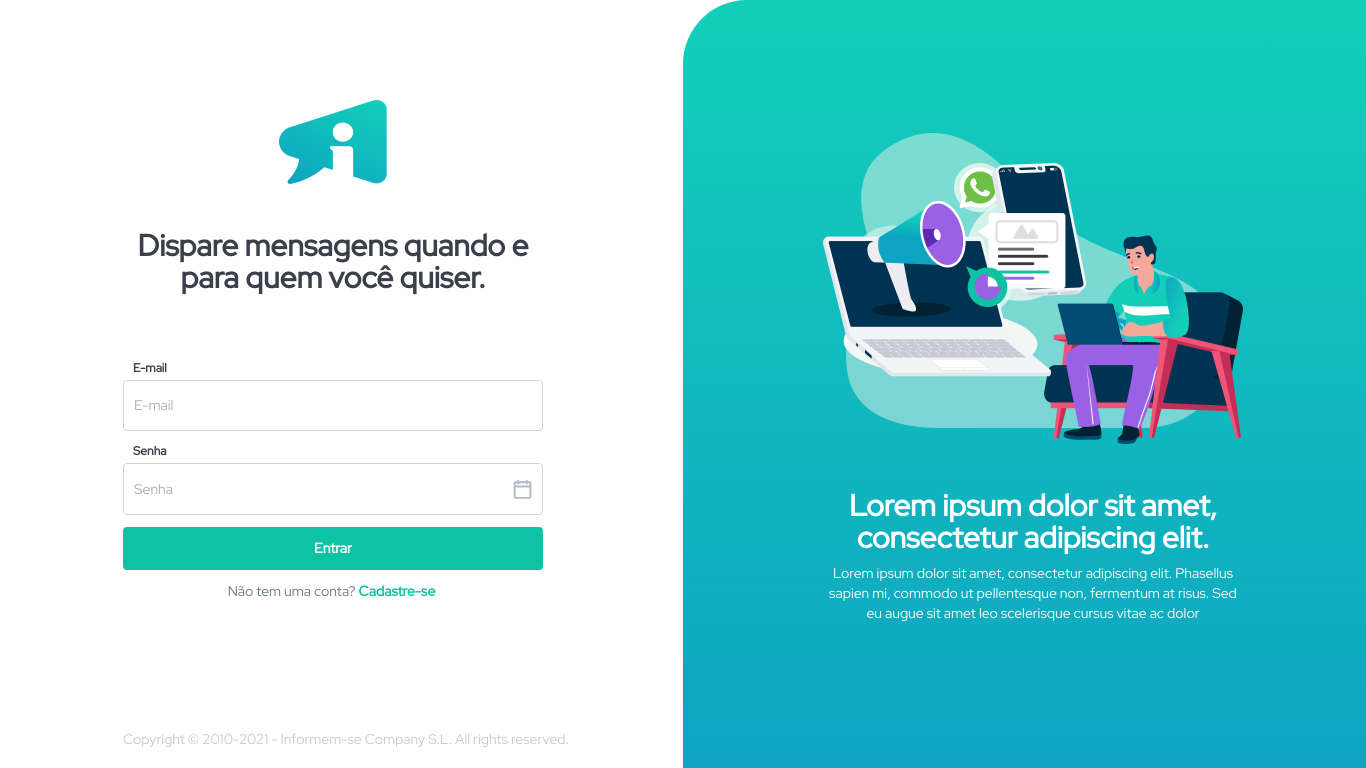
Test: 01 - login › login attempts should fail › empty login and password inputs
Click the button "Entrar": (333, 549) [123,527,543,570]
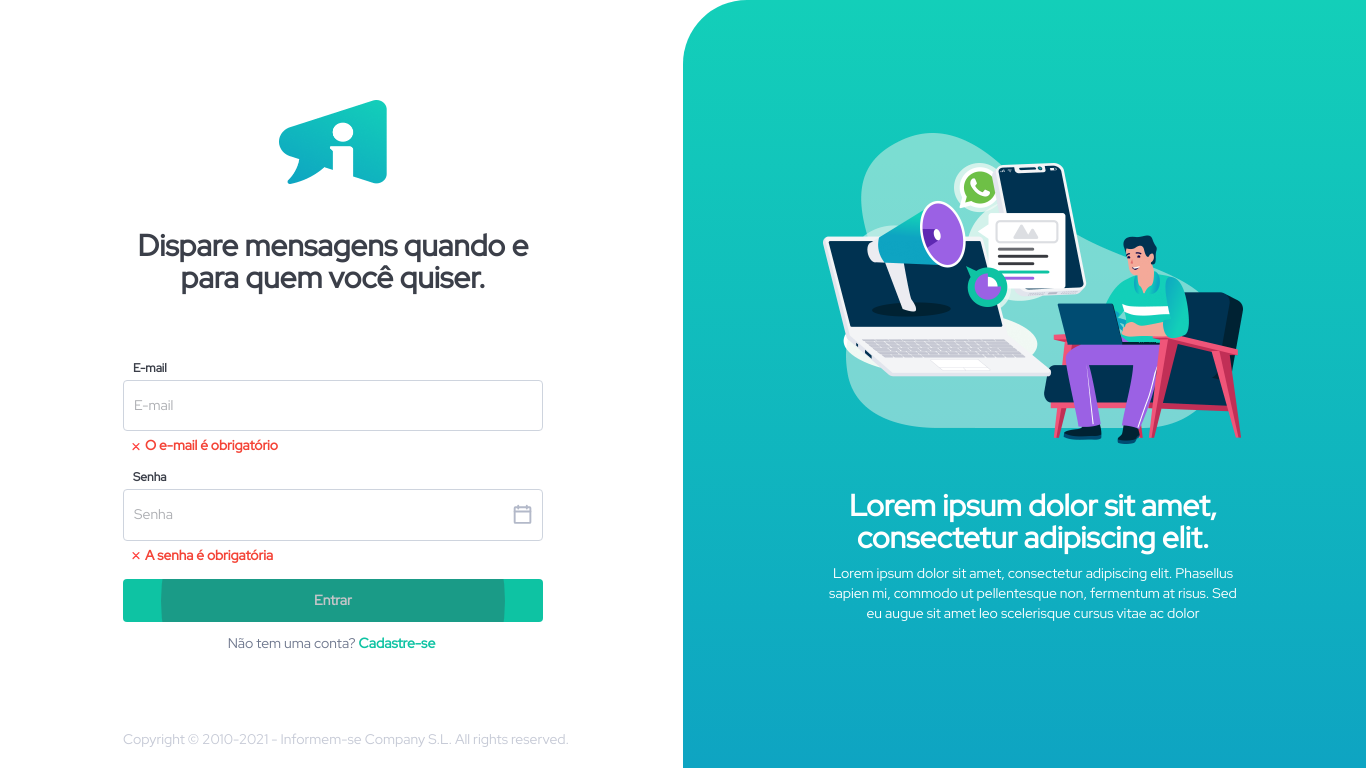
Expected: the text "O e-mail é obrigatório" is shown, [145,434,278,457]
Expected: the text "A senha é obrigatória" is shown, [145,544,273,567]
